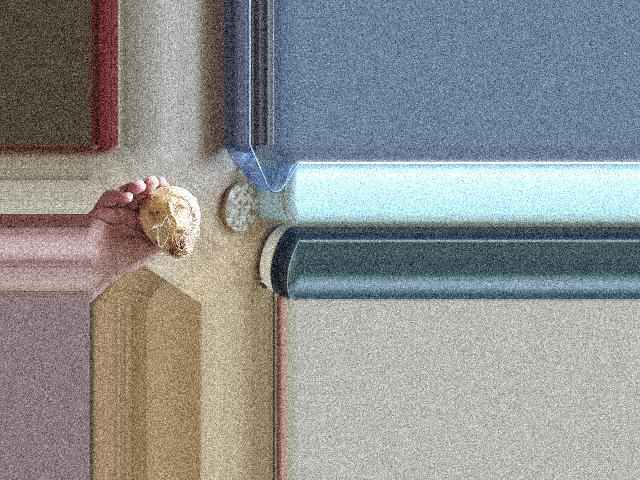onion: (138, 184, 207, 253)
